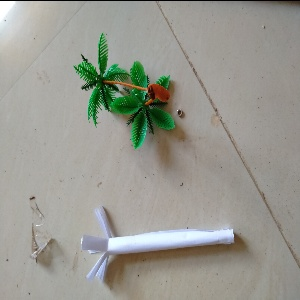plant: (70, 39, 176, 137)
weed: (78, 205, 241, 278)
